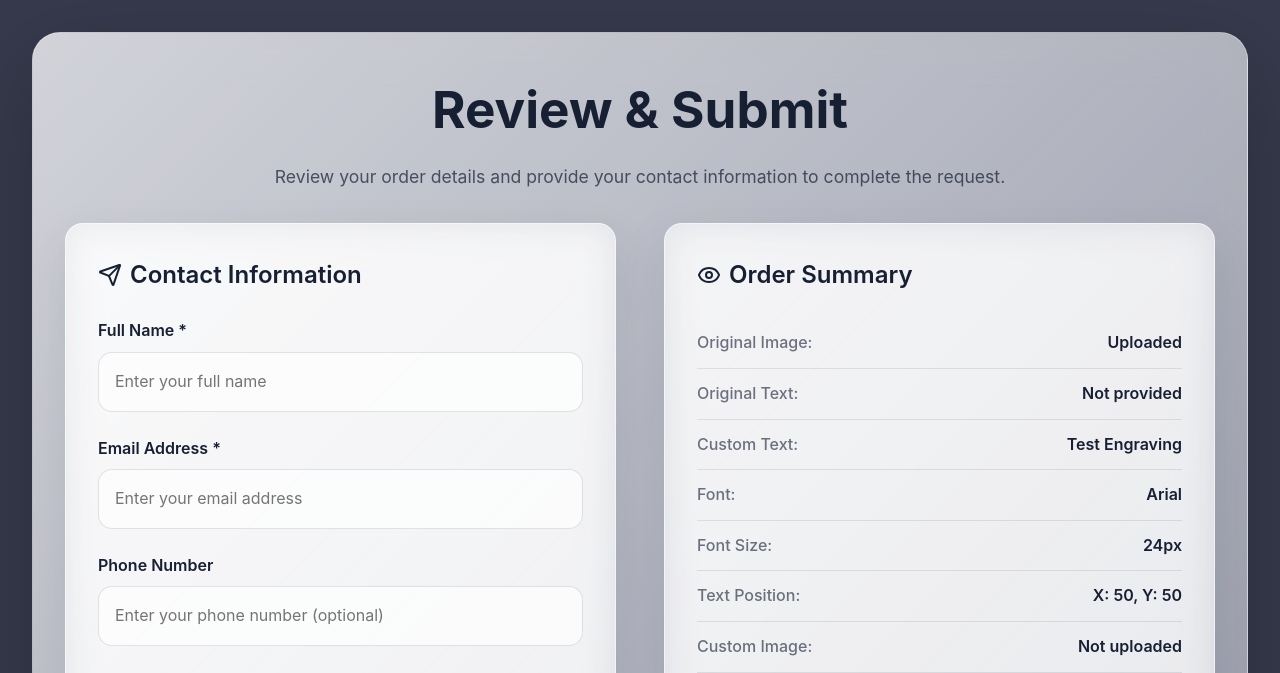
Scenario: Step3Submit Integration Tests › shows loading state during submission
# Fill in required fields
Type "John Doe" into the field labelled "Full Name *".
click(340, 382); type("John Doe")  # box x1=98 y1=352 x2=583 y2=412
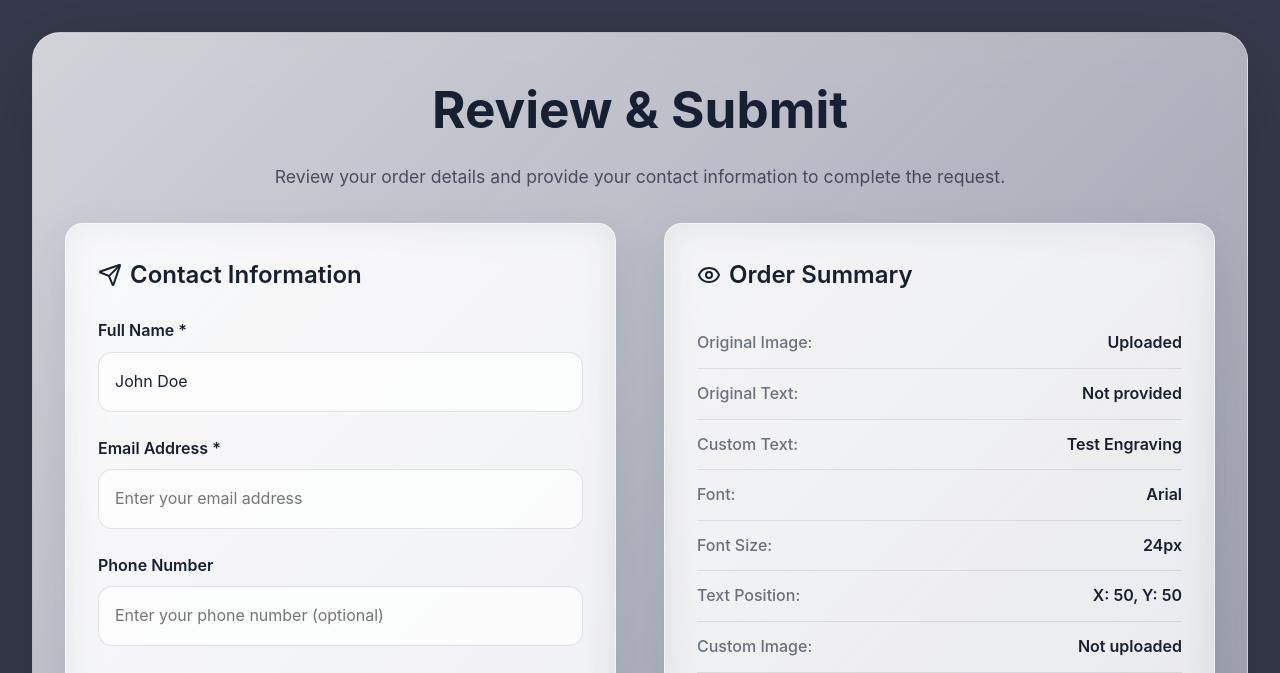
Type "john@example.com" into the field labelled "Email Address *".
click(340, 499); type("john@example.com")  # box x1=98 y1=469 x2=583 y2=529
(page scrolled)
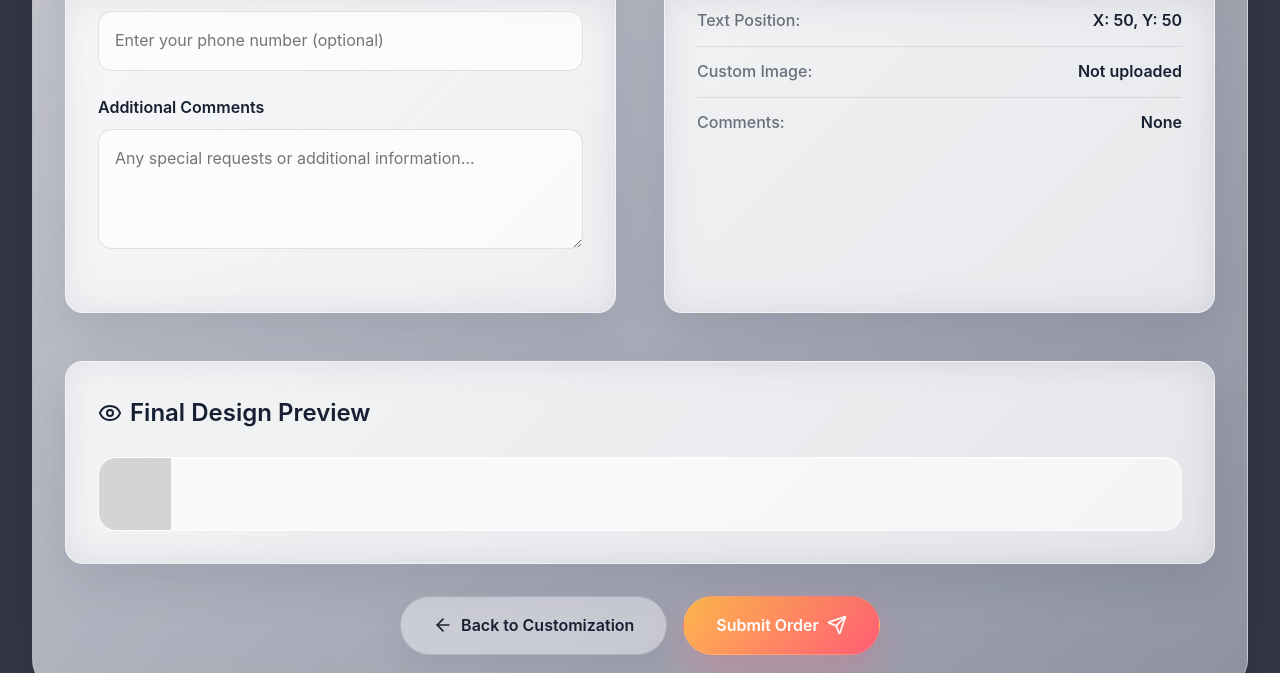
# Submit the form
Click the button "Submit Order".
click(782, 625)  # box x1=683 y1=596 x2=880 y2=655
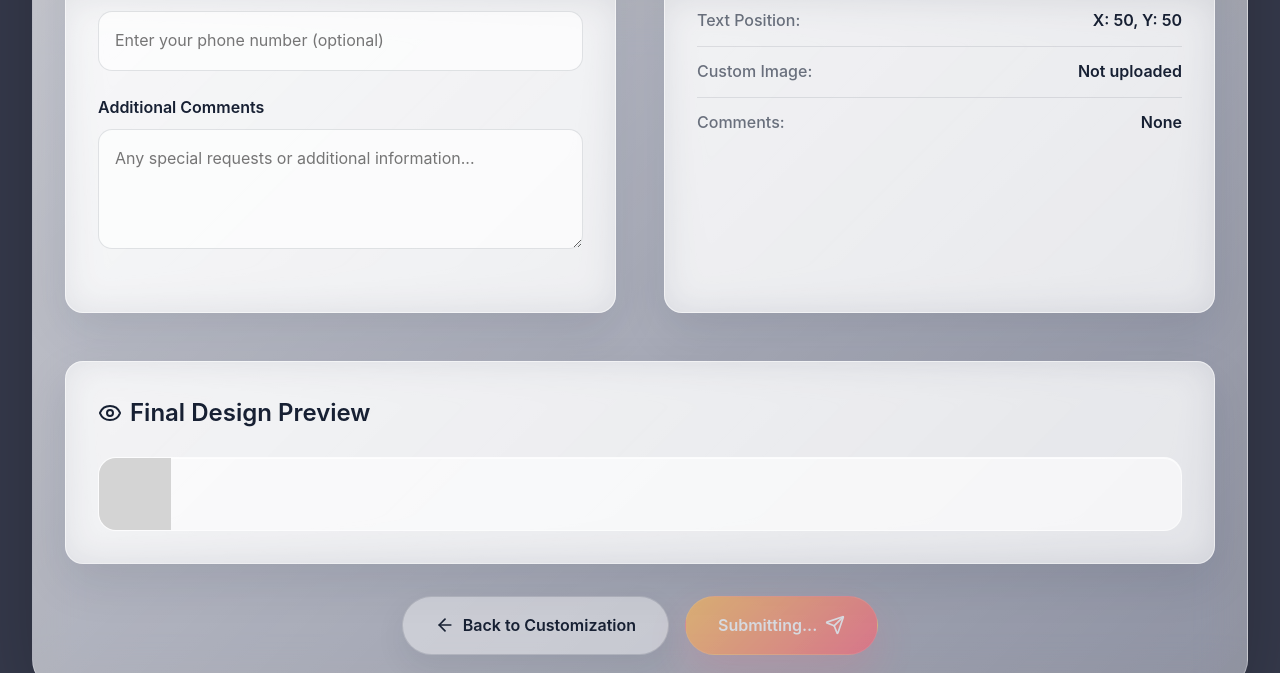
Expected: the button "Submitting..." is disabled, x1=685 y1=596 x2=878 y2=655
